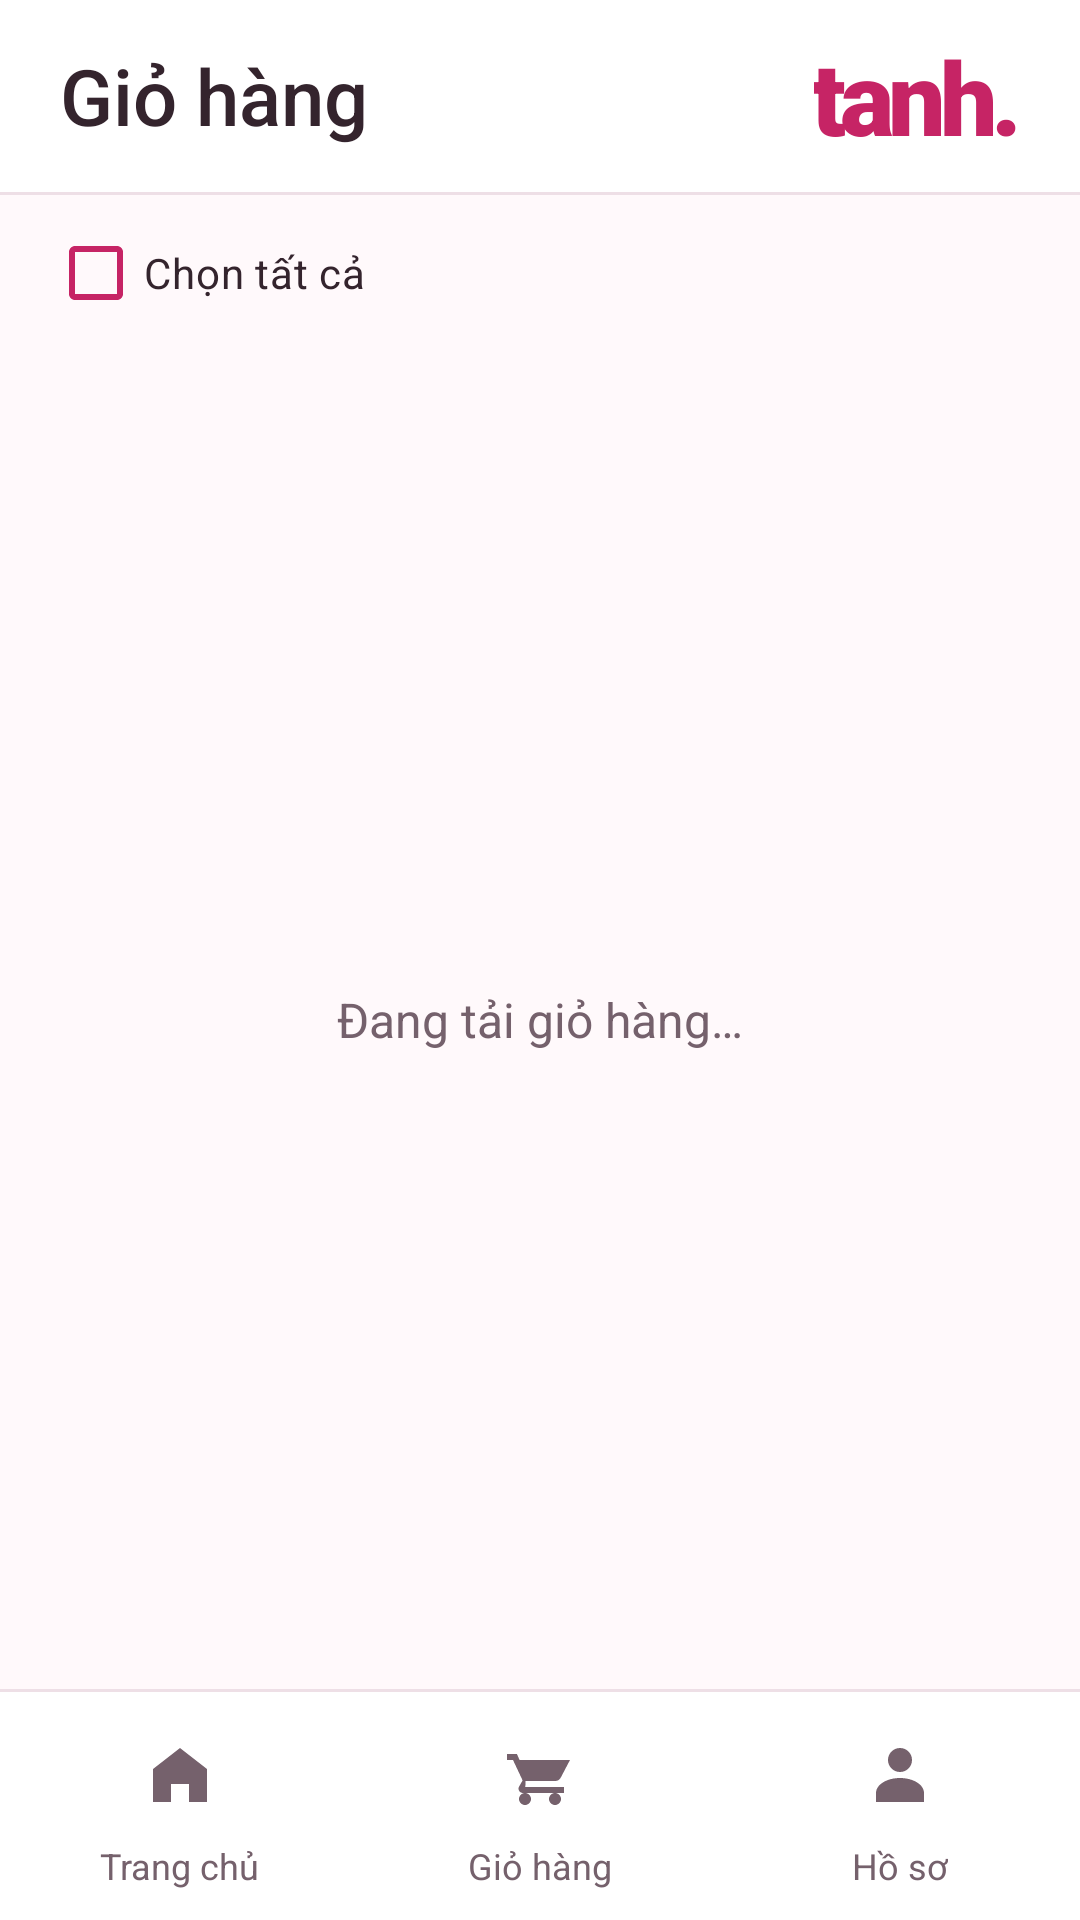

Screen size 1080w x 1920h. Icon name, then its center in pixels as [x,y]:
cart: [538,1779]
home: [180,1775]
profile: [900,1775]
